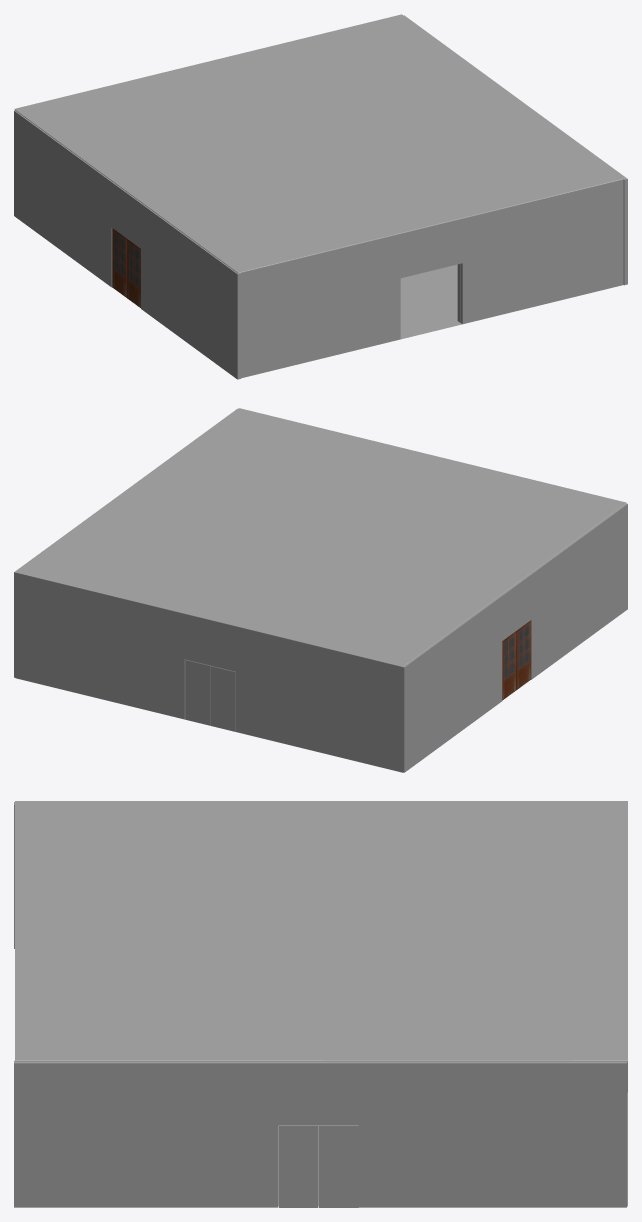
The model's file is Room1.fbx.
The picture shows the model from 3 angles, top to bottom: view 1: azimuth 30°, elevation 25°; view 2: azimuth 150°, elevation 25°; view 3: azimuth 270°, elevation 25°; orthographic projection. The views are drawn at different scales.
Parts seen in each view (by area): view 1: ceiling, wall4, wall1, Floor, Right, wall3, Left; view 2: ceiling, wall2, wall1, Right (×2), Left (×2), wall3; view 3: ceiling, wall3, Left, Right.
Boxes of the visible parts, x1,y1,x2,y2 form: ceiling: (14, 14, 625, 273); wall4: (241, 179, 623, 377); wall1: (14, 110, 241, 379); Floor: (243, 264, 621, 377); Right: (112, 228, 126, 297); wall3: (404, 15, 627, 285); Left: (127, 239, 140, 307); ceiling: (15, 408, 626, 667); wall2: (15, 573, 402, 772); wall1: (402, 503, 627, 772); Right (×2): (185, 631, 516, 725); Left (×2): (210, 620, 530, 731); wall3: (14, 408, 237, 677); ceiling: (15, 801, 627, 1061); wall3: (14, 1060, 626, 1207); Left: (279, 1125, 318, 1207); Right: (319, 1125, 358, 1207).
Bounding box in the file's own units: 2526 × 658 × 2505.
